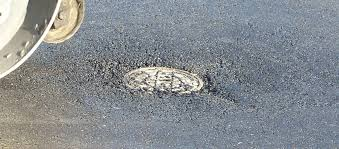Manhole-Closed: (117, 61, 216, 104)
